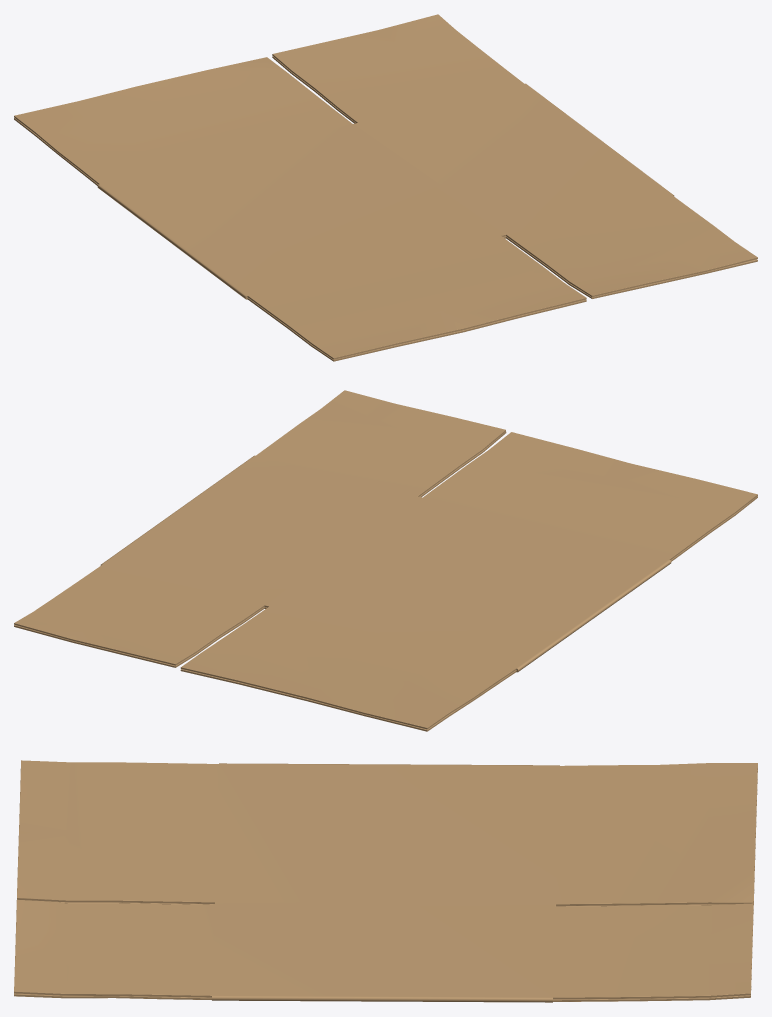
Rendered from box_cardboard_folded_white_a01.glb.
3 renders of one model, top to bottom at view 1: azimuth 30°, elevation 25°; view 2: azimuth 150°, elevation 25°; view 3: azimuth 270°, elevation 25°, orthographic. The views are drawn at different scales.
Bounding box in the file's own units: 0.6682 × 0.0129 × 0.8901.
